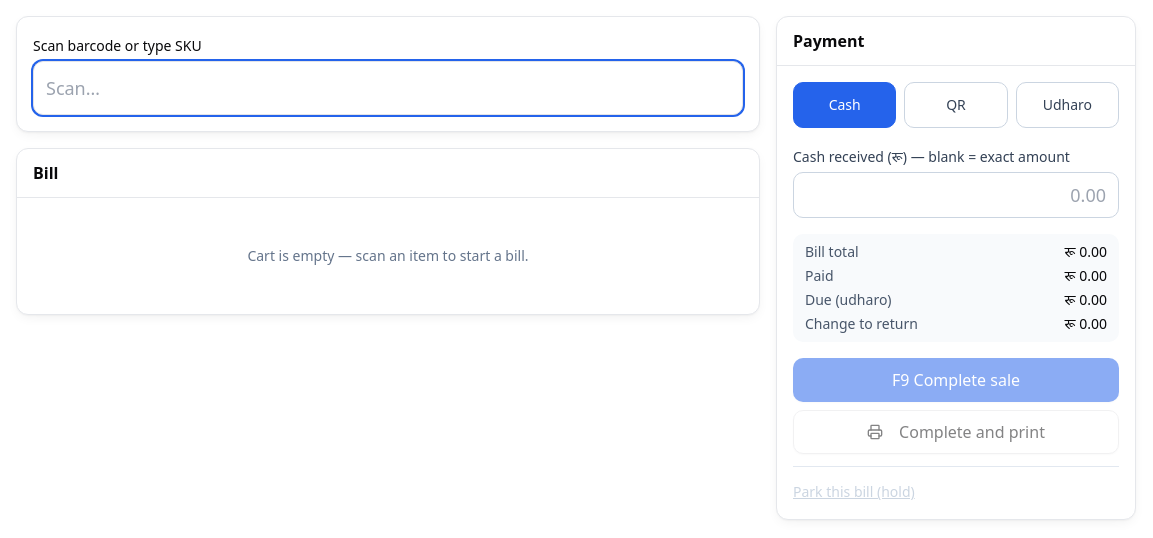
BillingPage counter payment › locks the bill while it is being parked, so nothing scanned now is lost
The image size is (1153, 538).
In the field labelled "Scan barcode or type SKU": (388,88) [33,61,743,115], type "8901234567890"
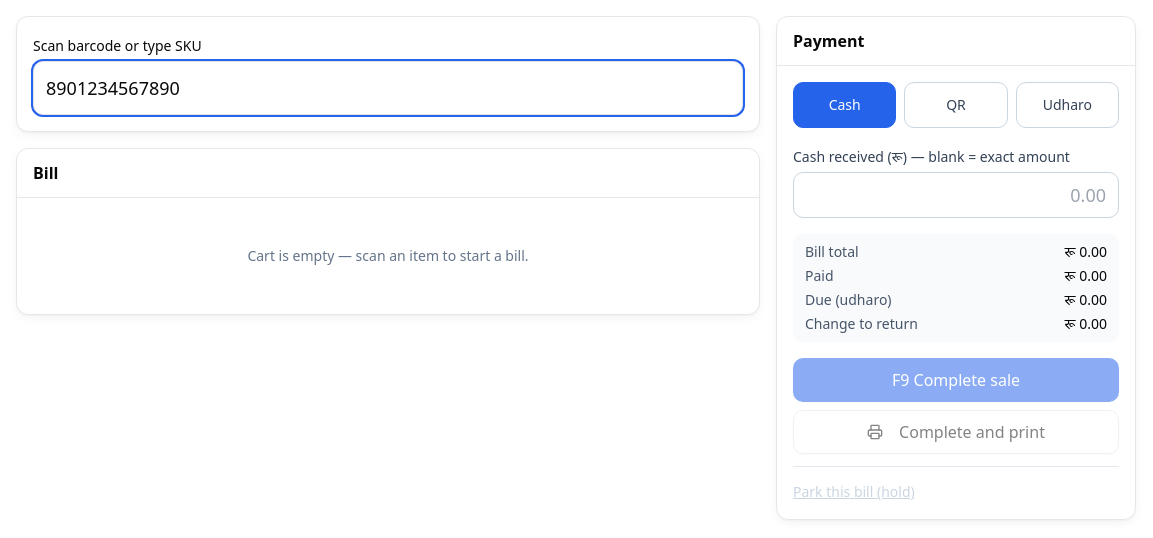
Submit the form labelled "Scan barcode or type SKU", box [33,33,743,115]
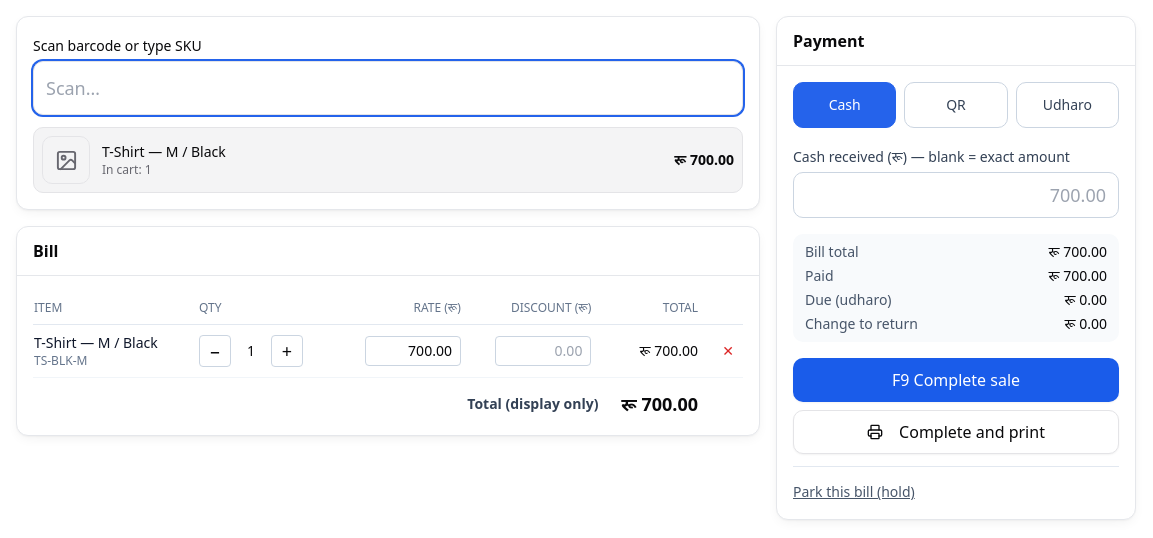
Click the button "Park this bill (hold)": (854,492) [793,482,915,502]
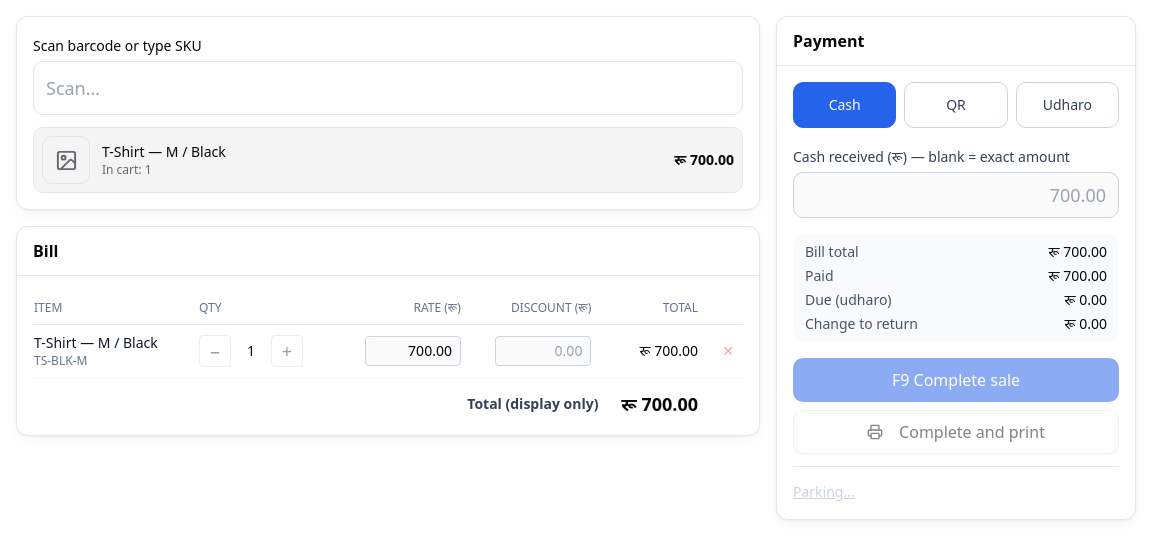
Expected: the field labelled "Scan barcode or type SKU" is disabled, [33,61,743,115]
Expected: the button "Parking…" is shown, [793,482,854,502]
Expected: the button "F9 Complete sale" is disabled, [793,358,1119,402]
